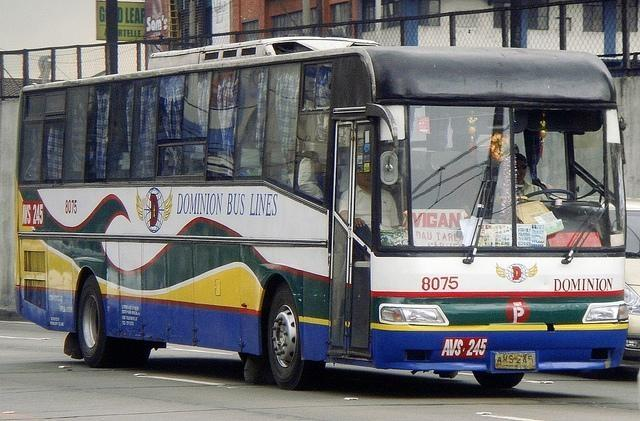bus: (10, 45, 630, 392)
car: (620, 198, 640, 368)
